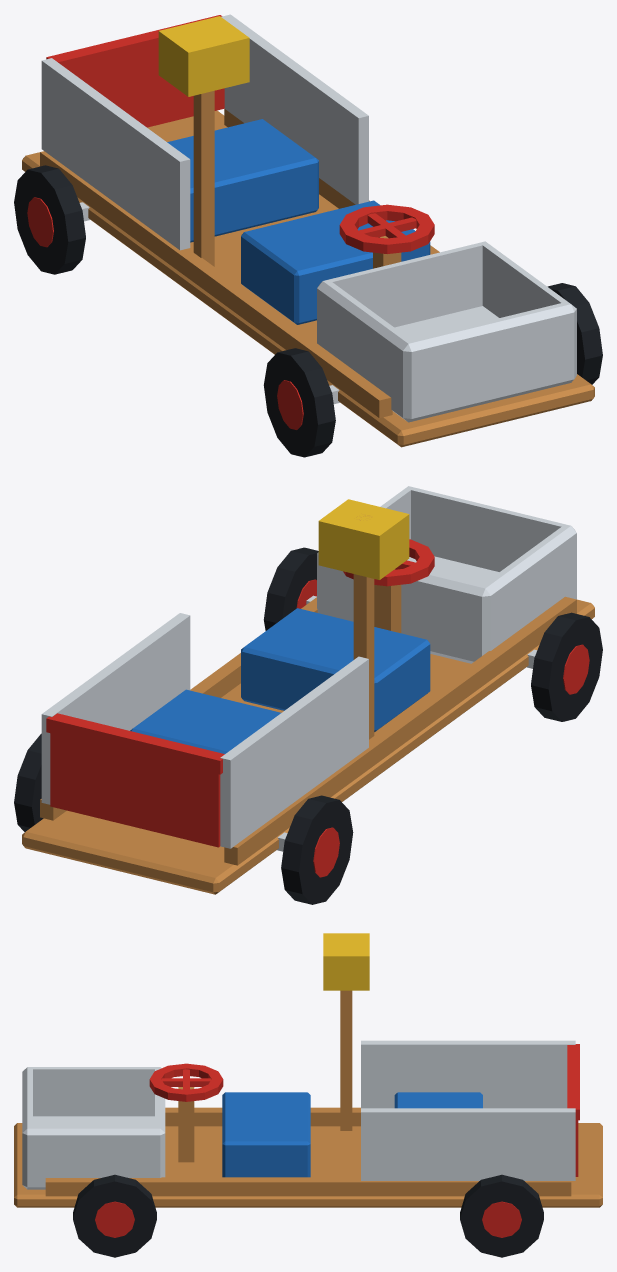
Rendered from veh_derby_shopping_trolley_2p.glb.
3 renders of one model, top to bottom at view 1: azimuth 30°, elevation 25°; view 2: azimuth 150°, elevation 25°; view 3: azimuth 270°, elevation 25°, orthographic. The views are drawn at different scales.
Visible parts, largest first — view 1: trolley_nose, body, driver_cooler, derby_wheel, tailgate_drop, checkout_sign, steer_spin, wheel_hub; view 2: trolley_nose, body, driver_cooler, tailgate_drop, derby_wheel, checkout_sign, wheel_hub, steer_spin; view 3: trolley_nose, body, driver_cooler, derby_wheel, checkout_sign, wheel_hub, steer_spin, tailgate_drop.
Boxes of the visible parts, <box> form: trolley_nose: <box>41,14,576,422</box>; body: <box>22,90,594,447</box>; driver_cooler: <box>167,119,430,324</box>; derby_wheel: <box>14,165,602,457</box>; tailgate_drop: <box>46,15,224,127</box>; checkout_sign: <box>158,16,249,96</box>; steer_spin: <box>339,204,434,253</box>; wheel_hub: <box>27,197,303,429</box>; trolley_nose: <box>41,486,576,851</box>; body: <box>22,515,594,894</box>; driver_cooler: <box>130,608,430,753</box>; tailgate_drop: <box>46,713,224,847</box>; derby_wheel: <box>14,547,602,904</box>; checkout_sign: <box>318,499,409,579</box>; wheel_hub: <box>296,579,589,877</box>; steer_spin: <box>343,539,434,586</box>; trolley_nose: <box>22,1040,575,1189</box>; body: <box>14,990,602,1207</box>; driver_cooler: <box>222,1092,482,1177</box>; derby_wheel: <box>73,1174,543,1257</box>; checkout_sign: <box>323,933,369,990</box>; wheel_hub: <box>95,1201,521,1237</box>; steer_spin: <box>149,1063,223,1101</box>; tailgate_drop: <box>567,1044,579,1176</box>.
Bounding box in the file's own units: 1.22 × 1.2 × 2.8.
